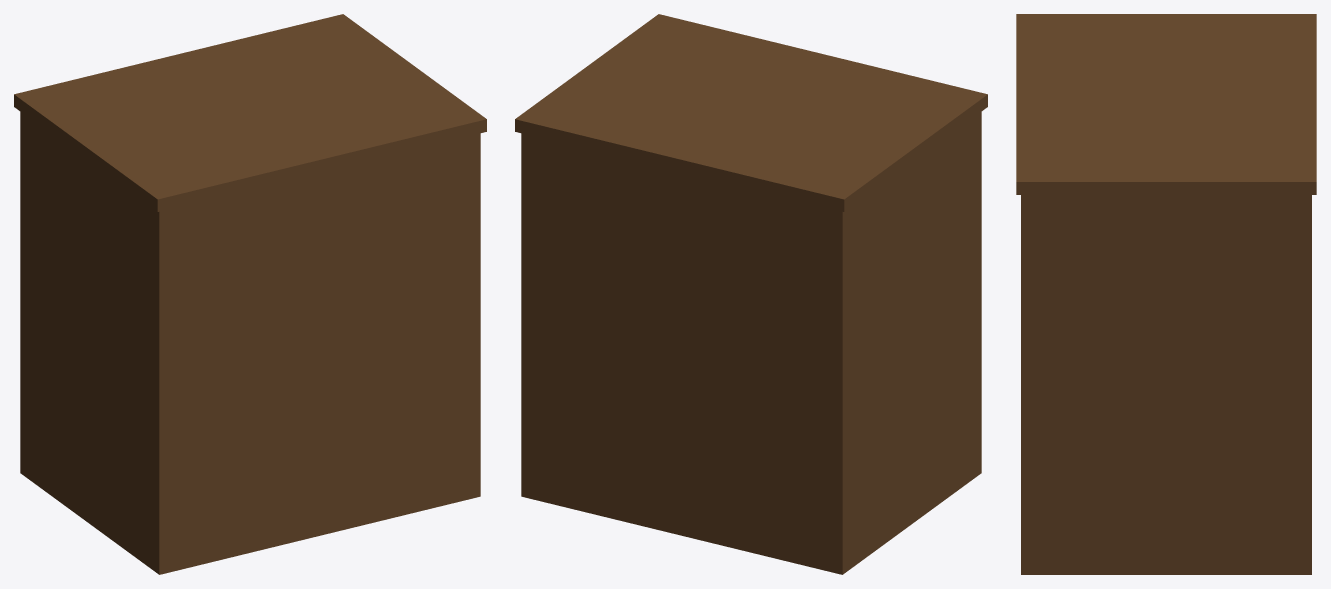
Rendered from parametric-other-1st-pub.glb.
The picture shows the model from 3 angles, left to right: view 1: azimuth 30°, elevation 25°; view 2: azimuth 150°, elevation 25°; view 3: azimuth 270°, elevation 25°; orthographic projection. The views are drawn at different scales.
Visible parts, largest first — view 1: parametric-other-1st-pub; view 2: parametric-other-1st-pub; view 3: parametric-other-1st-pub.
Boxes of the visible parts, x1=… form: parametric-other-1st-pub: x1=14, y1=14, x2=486, y2=574; parametric-other-1st-pub: x1=515, y1=14, x2=987, y2=574; parametric-other-1st-pub: x1=1016, y1=14, x2=1316, y2=574.
Size of the model in its own units: 0.82 by 0.9 by 0.62.
